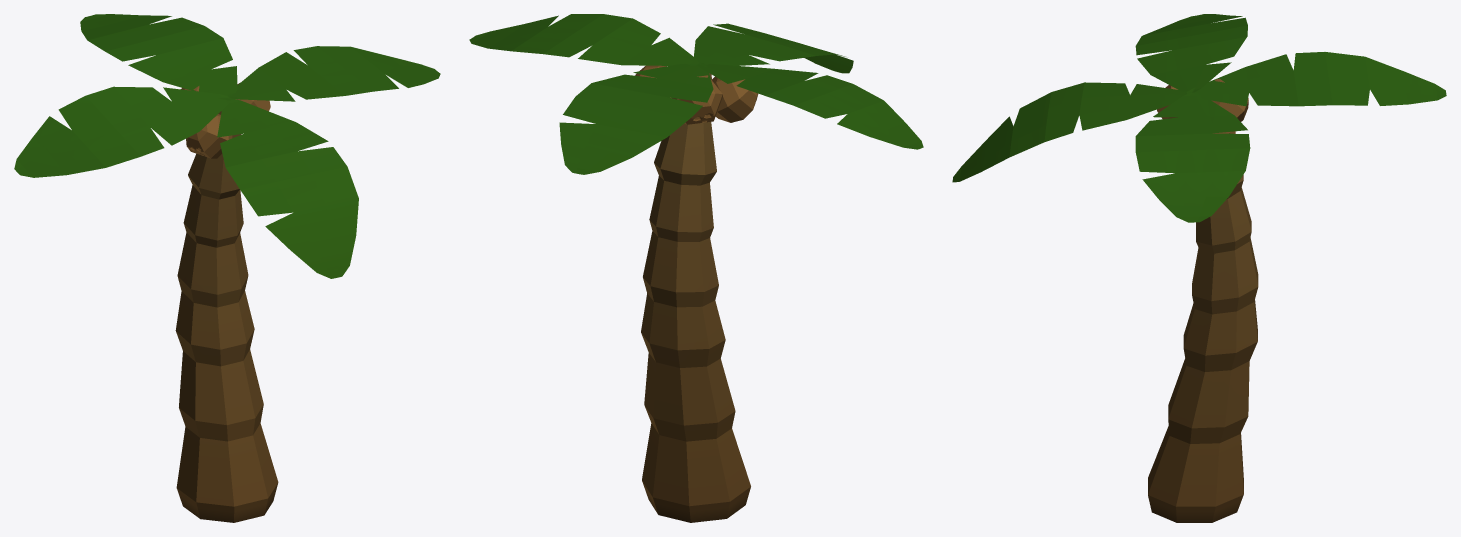
The model's file is SM_PalmTree2.fbx.
3 renders of one model, left to right at view 1: azimuth 30°, elevation 25°; view 2: azimuth 150°, elevation 25°; view 3: azimuth 270°, elevation 25°, orthographic. The views are drawn at different scales.
Parts seen in each view (by area): view 1: SM_PalmTree1_Body; view 2: SM_PalmTree1_Body; view 3: SM_PalmTree1_Body.
Part boxes in pixels (<box>): SM_PalmTree1_Body: <box>14,14,440,522</box>; SM_PalmTree1_Body: <box>469,14,923,522</box>; SM_PalmTree1_Body: <box>952,14,1446,522</box>.
Size of the model in its own units: 938 by 898 by 947.
